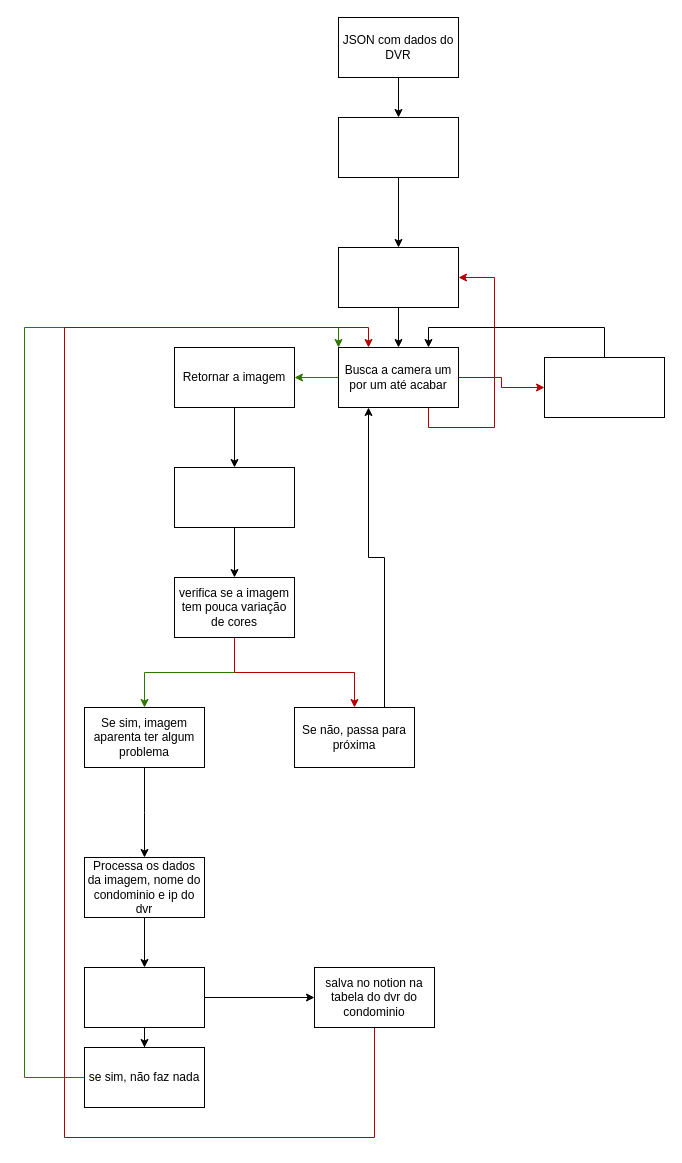
Image size: 682x1163. Some labels were removed from this diagram. The shapes that lost their labels are listed below. From the top down, each one's box as (x1, y1, x2, y2) in pixels, then its label:
(338, 116, 458, 178): Processa os dados
(338, 246, 458, 308): Faz a requisição do próximo DVR
(544, 356, 664, 418): Retorna uma exception
(174, 466, 294, 528): Salva no computador
(84, 966, 204, 1028): Verifica se já tem a mesma imagem do dvr e numero da camera no notion
